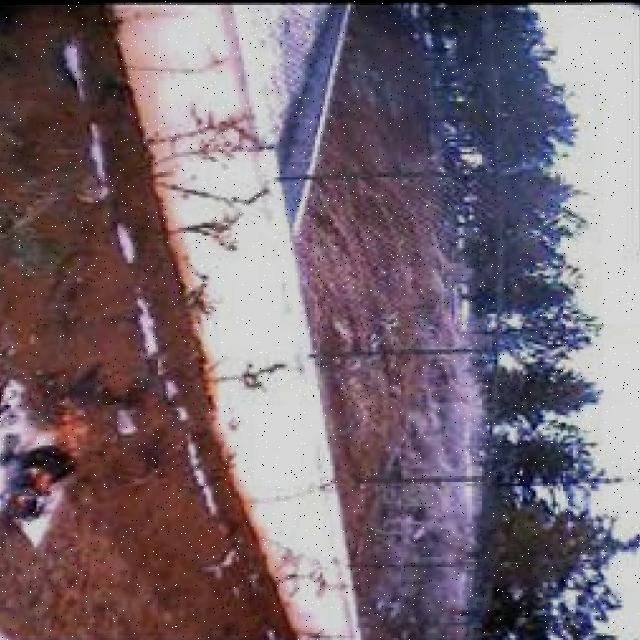fire: (6, 390, 94, 530)
